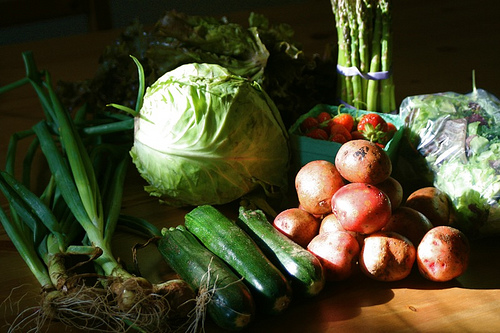cabbage: (131, 61, 288, 201)
